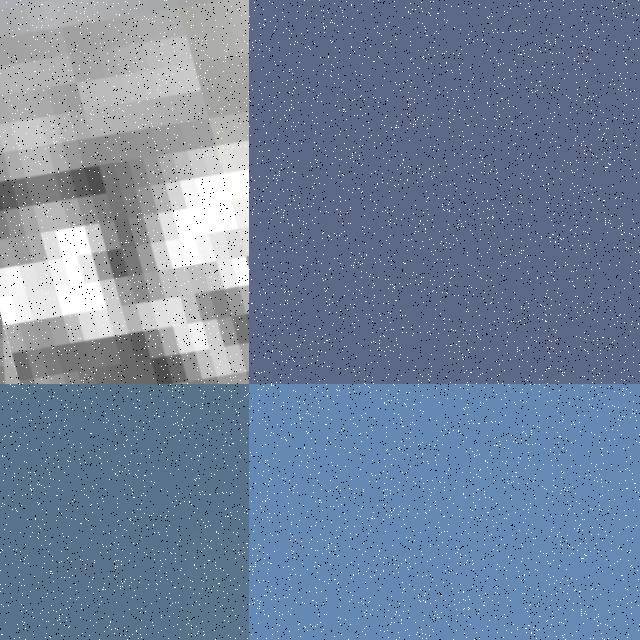drone: (0, 0, 249, 384)
